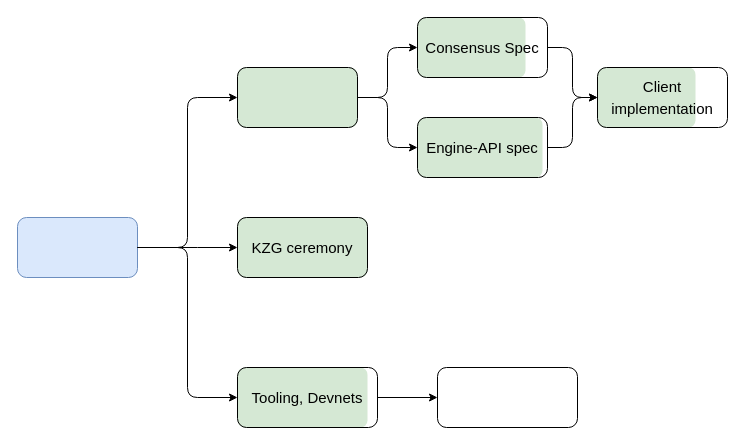
Image size: 745x445. Some labels were removed from this diagram. The centre of each missing label's shape, as x and y in pixels:
"EIP itself" belongs at (297,97).
"EIP-4844" belongs at (77,247).
"Testing" belongs at (507,397).
